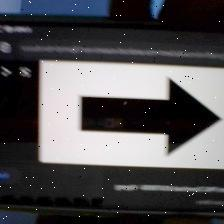right: (80, 76, 221, 157)
